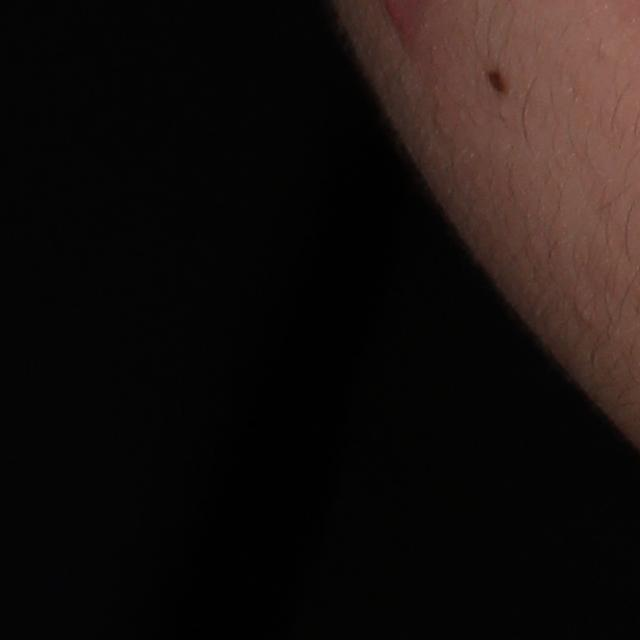nevus: (479, 69, 509, 96)
